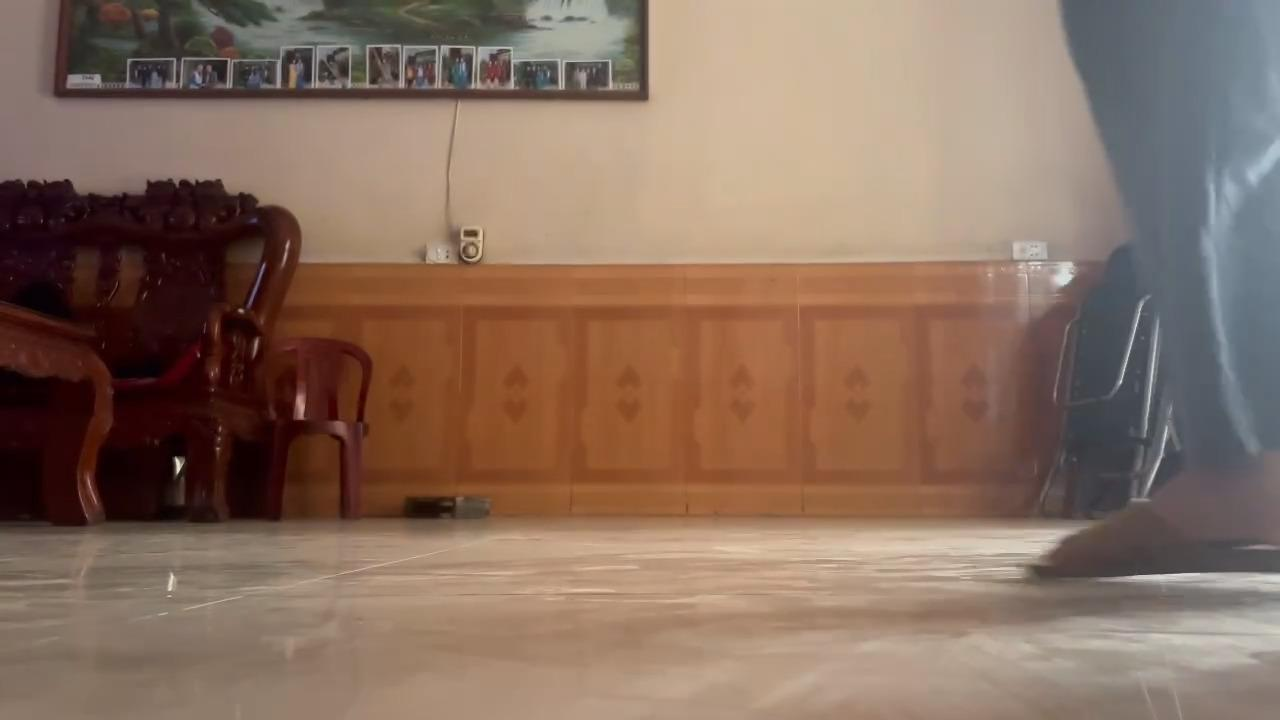no-boot: (1020, 485, 1280, 599)
